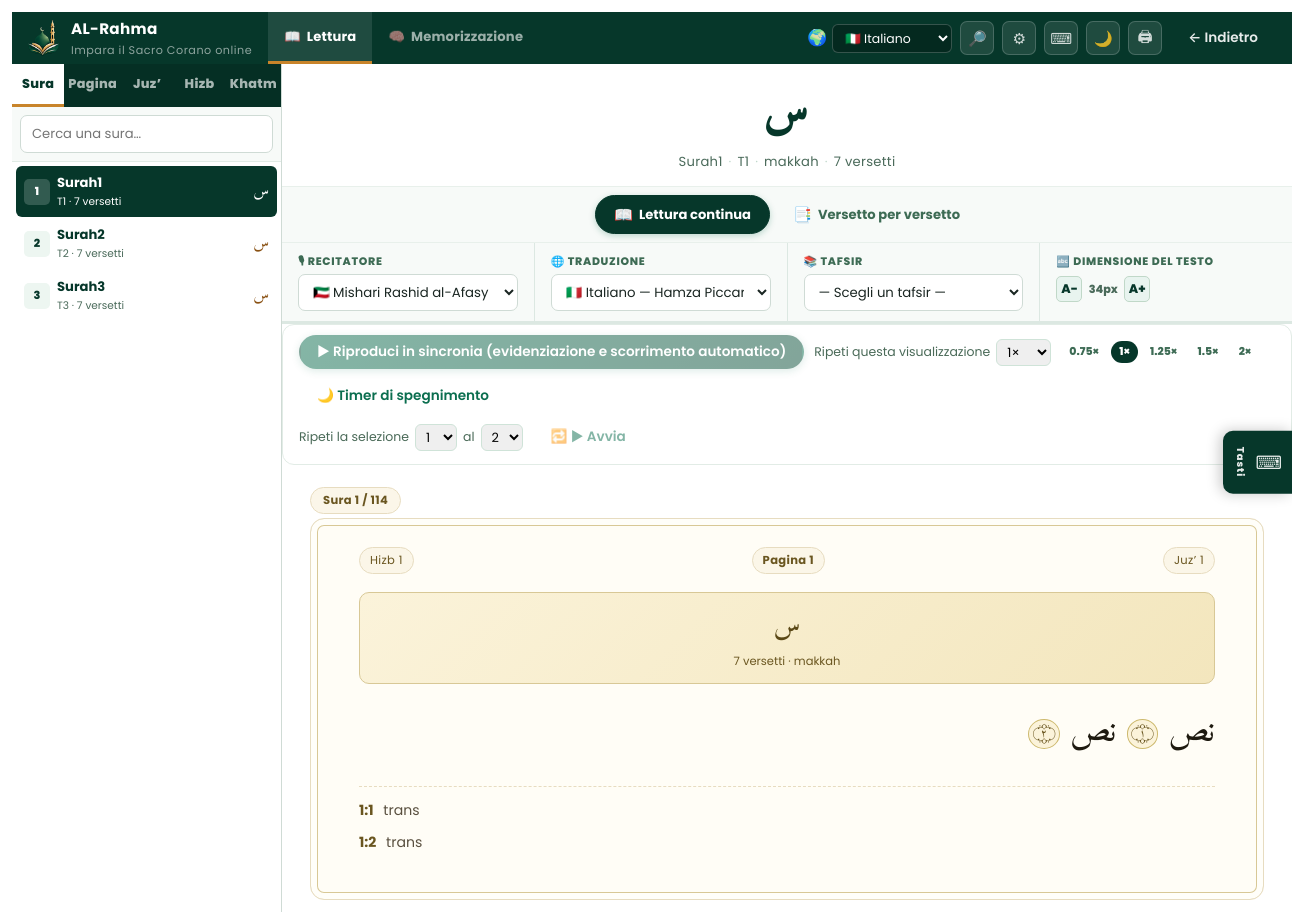
it: every reader panel is Italian on /it/ (no Arabic or English interface fallback) › sidebar khatm tab, progress and reset are Italian
The width and height of the screenshot is (1304, 912).
Click the button "Khatm" at (253, 86), box [226,64,281,107]
Wait 100 ms
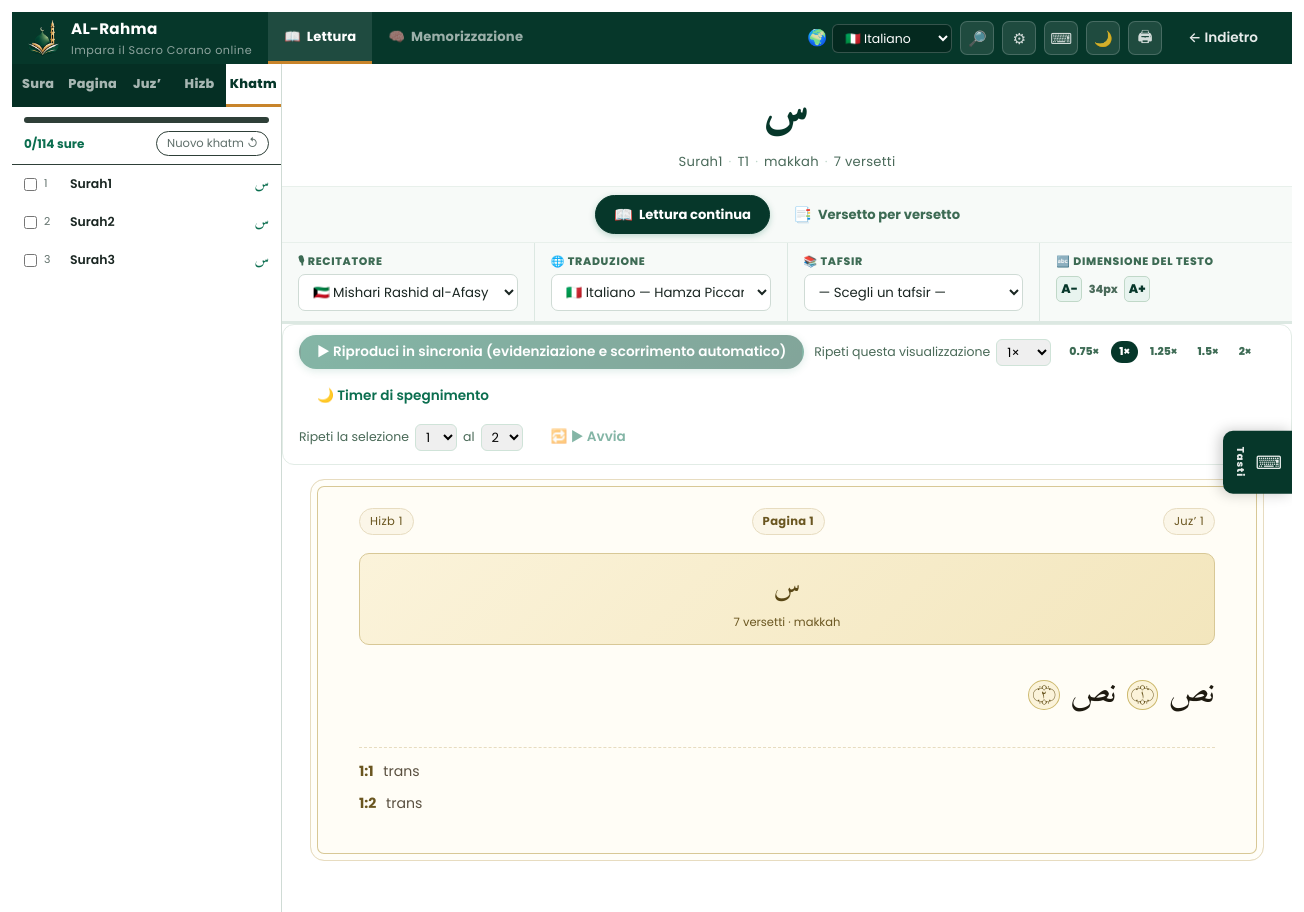
Check: the text "0/114 sure" is shown, box [12,64,282,911]
Check: the text "Nuovo khatm ↺" is shown, box [156,131,269,156]
